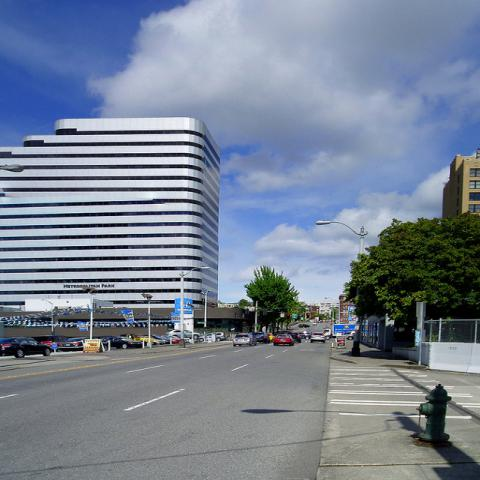car: (198, 322, 332, 341), (9, 336, 54, 358), (102, 336, 143, 350), (63, 337, 90, 352), (166, 329, 200, 339), (273, 334, 294, 346), (231, 335, 253, 346), (253, 331, 272, 343), (151, 334, 169, 344), (287, 331, 301, 342), (310, 333, 328, 341), (162, 335, 178, 344), (296, 323, 312, 329), (266, 333, 275, 342)
